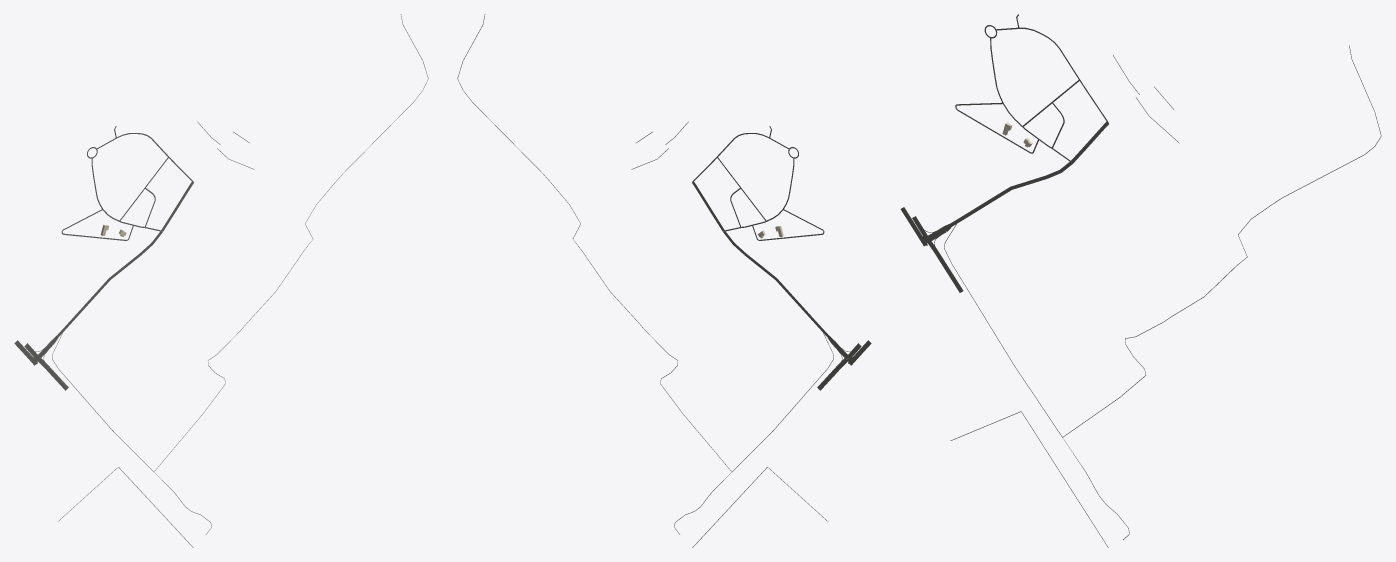
The model's file is historic-palestine-05_22_3473_3164.glb.
The picture shows the model from 3 angles, left to right: view 1: azimuth 30°, elevation 25°; view 2: azimuth 150°, elevation 25°; view 3: azimuth 330°, elevation 25°; orthographic projection. The views are drawn at different scales.
Parts seen in each view (by area): view 1: Road .006; view 2: Road .006; view 3: Road .006, Road 3535.002.
Part boxes in pixels (<box>): Road .006: <box>154,14,428,534</box>; Road .006: <box>457,14,731,534</box>; Road .006: <box>1062,45,1381,539</box>; Road 3535.002: <box>950,162,1072,226</box>.
Size of the model in its own units: 1212 by 1352 by 8.7.
